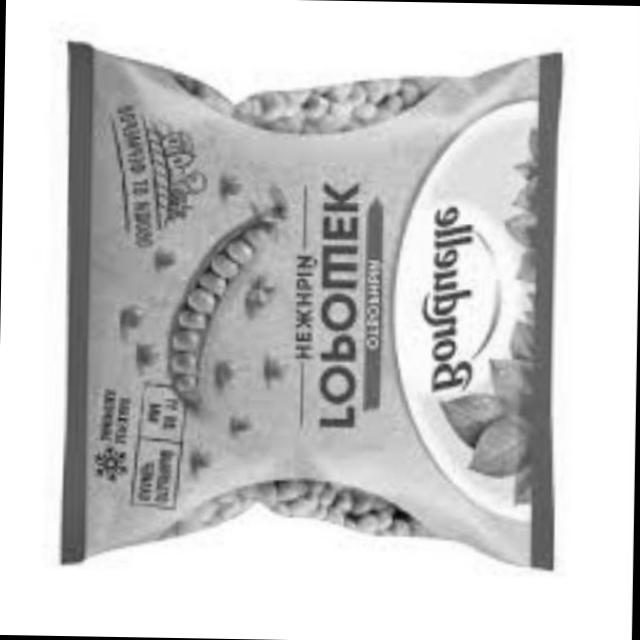peas: (182, 186, 276, 400), (186, 465, 413, 553), (192, 54, 444, 133), (222, 381, 300, 452), (186, 433, 237, 483), (120, 343, 186, 377), (215, 161, 266, 204), (151, 221, 188, 279), (256, 356, 302, 399), (246, 273, 290, 317), (113, 306, 156, 336), (215, 354, 238, 388)
